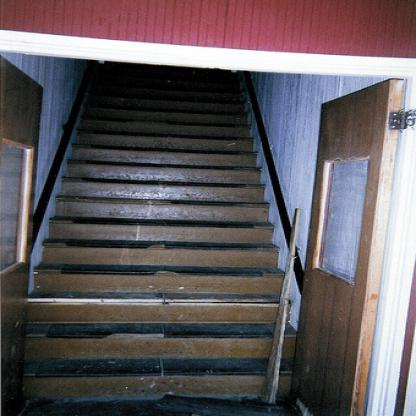stairs: (51, 192, 264, 402)
